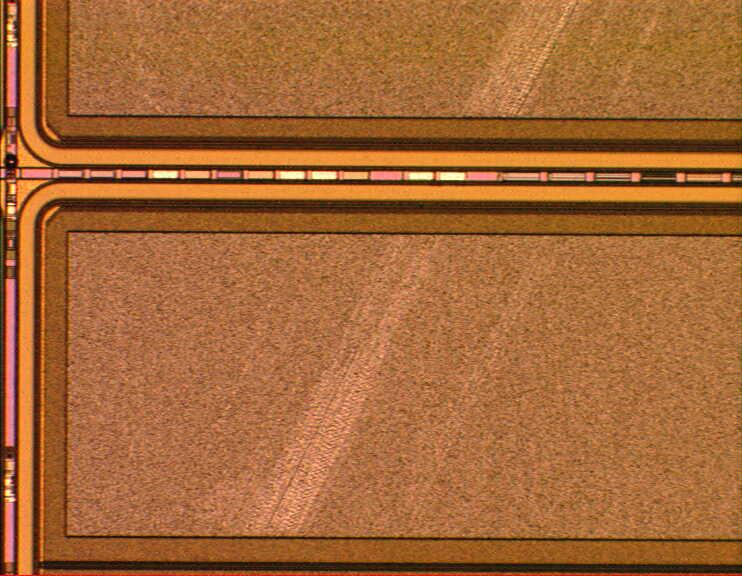SCRATCH: (151, 1, 679, 540)
